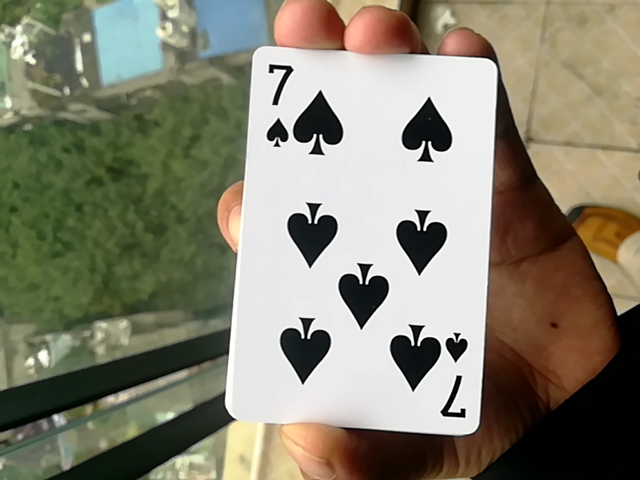ht 7: (235, 34, 481, 450)
